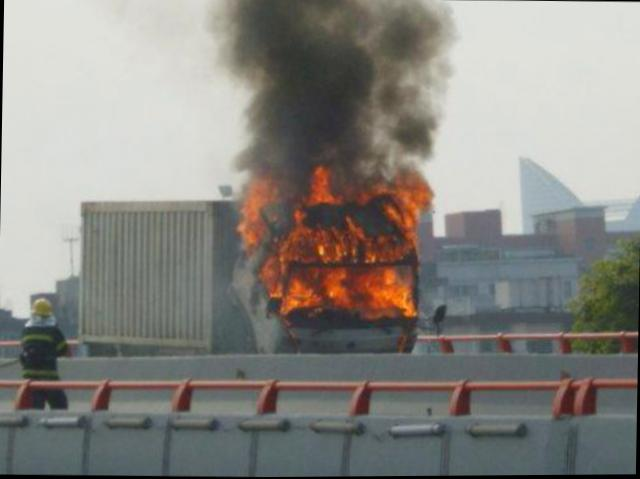fire: (288, 263, 412, 316), (285, 226, 361, 260), (244, 182, 271, 241), (400, 179, 424, 235), (314, 162, 340, 203), (368, 236, 412, 260), (266, 256, 287, 293)
